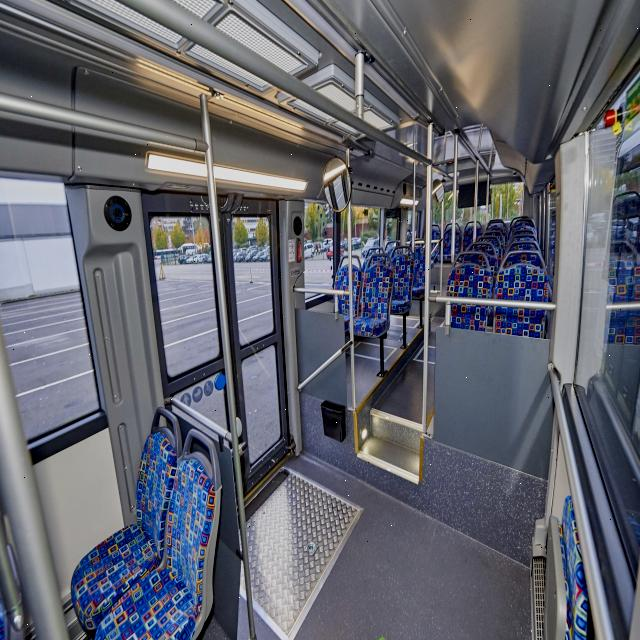empty-seat-frontal: (353, 256, 393, 342)
